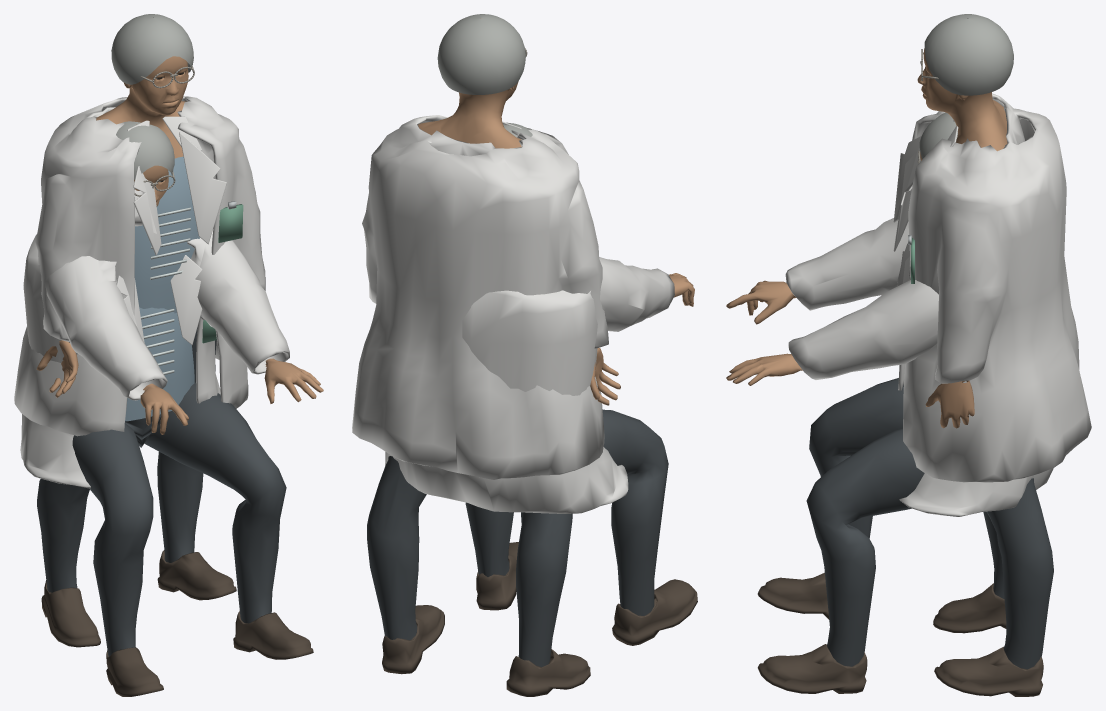
File: doctor-05-middle.glb
3 views of the same model, side by side, from view 1: azimuth 30°, elevation 25°; view 2: azimuth 150°, elevation 25°; view 3: azimuth 270°, elevation 25° (orthographic). The views are drawn at different scales.
Visible parts, largest first — view 1: Doctor anatomy and wardrobe.003, Doctor anatomy and wardrobe.001; view 2: Doctor anatomy and wardrobe.001, Doctor anatomy and wardrobe.003; view 3: Doctor anatomy and wardrobe.001, Doctor anatomy and wardrobe.003.
Boxes of the visible parts, x1,y1,x2,y2 form: Doctor anatomy and wardrobe.003: (20,121,323,696); Doctor anatomy and wardrobe.001: (14,14,265,647); Doctor anatomy and wardrobe.001: (352,14,620,696); Doctor anatomy and wardrobe.003: (385,122,697,645); Doctor anatomy and wardrobe.001: (893,14,1091,696); Doctor anatomy and wardrobe.003: (726,112,1053,693).
Bounding box in the file's own units: 0.6645 × 1.64 × 0.8399.
